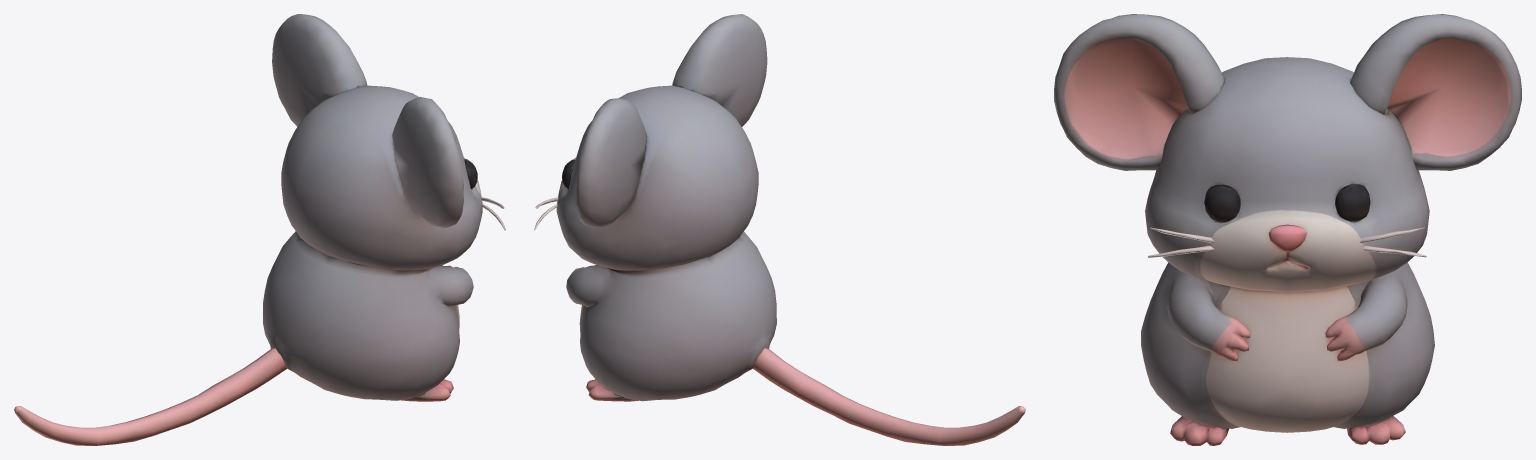
File: mouse.glb
3 views of the same model, side by side, from view 1: azimuth 30°, elevation 25°; view 2: azimuth 150°, elevation 25°; view 3: azimuth 270°, elevation 25° (orthographic). The views are drawn at different scales.
Visible parts, largest first — view 1: tripo_node_ce2d82f6-9526-4f16-9a47-4d0a0c2403f4; view 2: tripo_node_ce2d82f6-9526-4f16-9a47-4d0a0c2403f4; view 3: tripo_node_ce2d82f6-9526-4f16-9a47-4d0a0c2403f4.
Boxes of the visible parts, box(x1,y1,x2,y2) form: tripo_node_ce2d82f6-9526-4f16-9a47-4d0a0c2403f4: box(14, 14, 505, 445); tripo_node_ce2d82f6-9526-4f16-9a47-4d0a0c2403f4: box(534, 14, 1025, 445); tripo_node_ce2d82f6-9526-4f16-9a47-4d0a0c2403f4: box(1054, 14, 1521, 445).
Size of the model in its own units: 0.998 by 0.6777 by 0.6934.
1 material, 1 textured.
